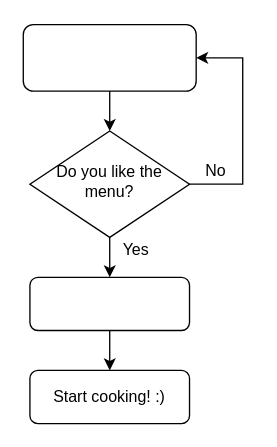
This 277x447 diagram has some shape labels left out. The shapes that lost their labels are listed below. From the top down, each one's box as (x1, y1, x2, y2) in pixels, then its label:
(22, 23, 196, 91): Click the button to get the menu of the week
(29, 276, 190, 331): Click the menu to see the recipes
